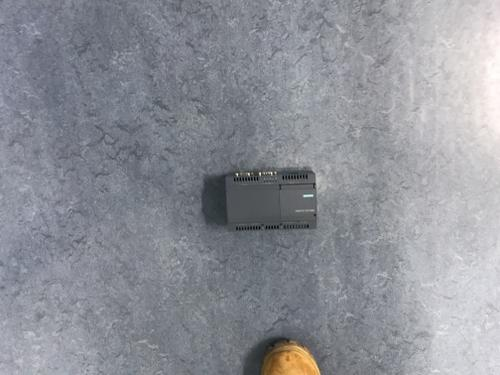device: (226, 171, 318, 233)
